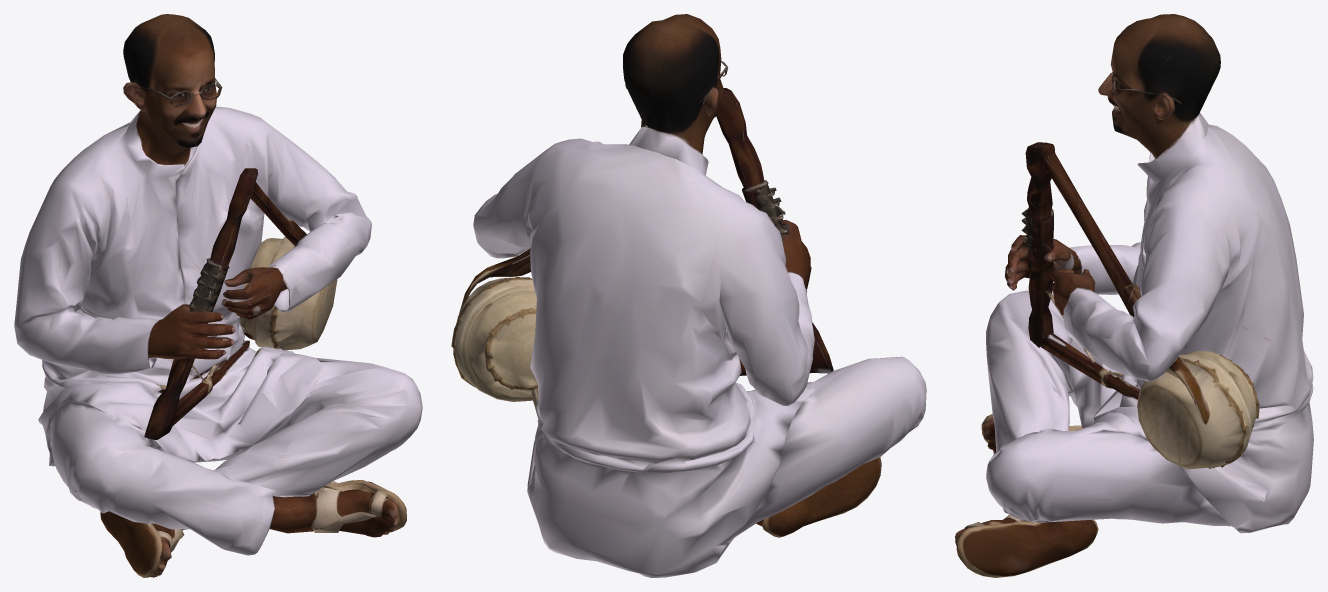
Rendered from temegsgen.glb.
3 views of the same model, side by side, from view 1: azimuth 30°, elevation 25°; view 2: azimuth 150°, elevation 25°; view 3: azimuth 270°, elevation 25° (orthographic). The views are drawn at different scales.
Parts seen in each view (by area): view 1: mesh_0; view 2: mesh_0; view 3: mesh_0.
Part boxes in pixels (left/top/right/bottom): mesh_0: left=14, top=14, right=422, bottom=577; mesh_0: left=451, top=14, right=926, bottom=577; mesh_0: left=955, top=14, right=1313, bottom=577.
Bounding box in the file's own units: 1.28 × 1.66 × 1.08.
1 material, 1 textured.
